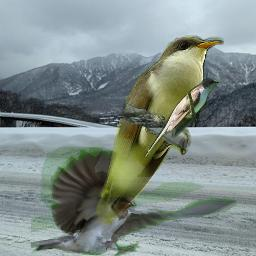Cuckoo: (94, 35, 224, 225), (144, 78, 219, 158)
Swallow: (31, 147, 237, 256)
